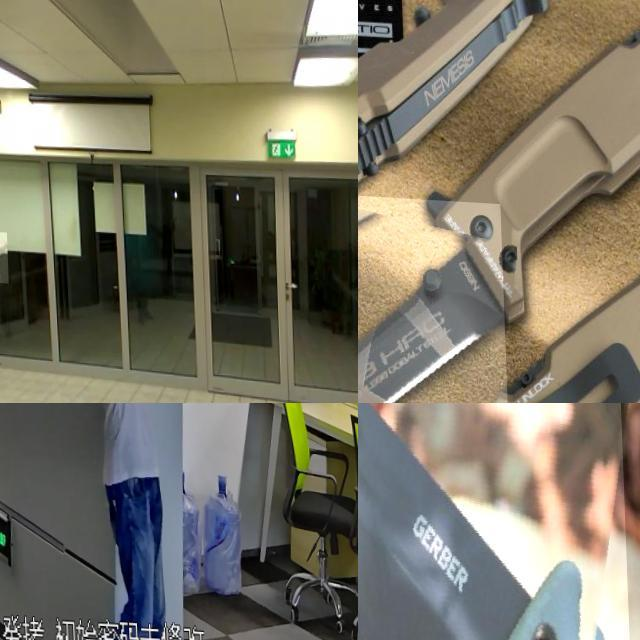-: (358, 403, 633, 640), (358, 185, 525, 403)
gun-knife-thesis - v11 Yolov5 augmented: (225, 403, 270, 447), (0, 228, 19, 281)
